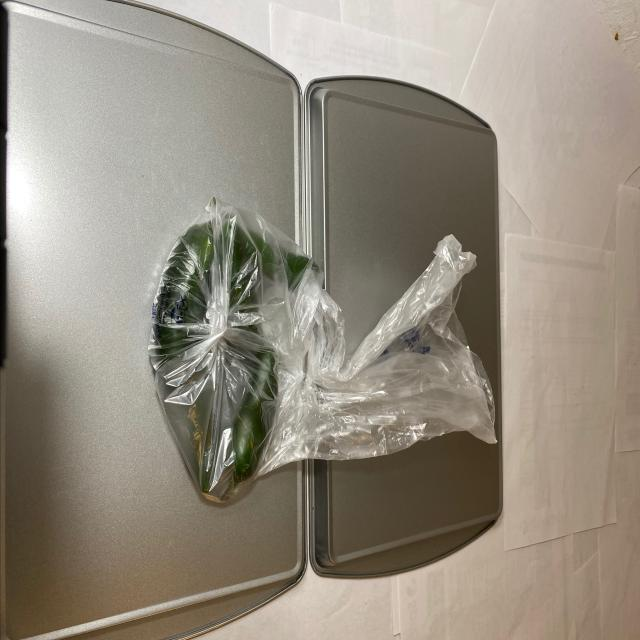chilli: (156, 210, 320, 524)
